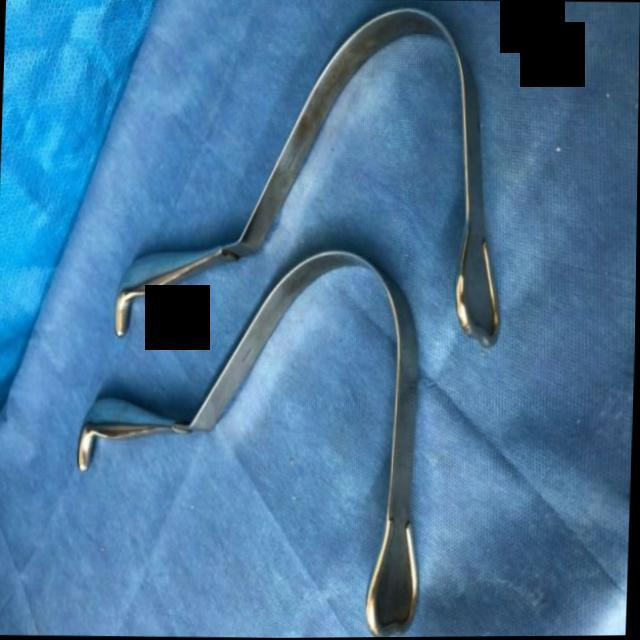Hrrington retractor: (107, 0, 518, 353), (72, 238, 434, 638)
